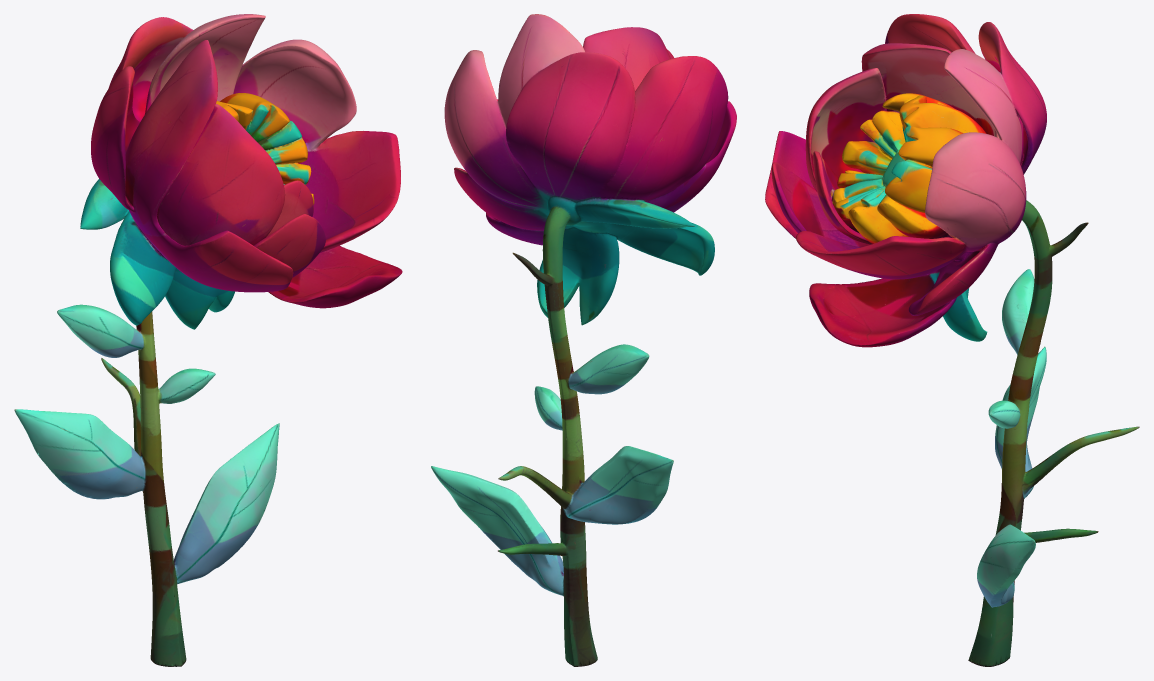
The model's file is Meshy_AI_Prismatic_Rose_0417042523_texture.fbx.
3 renders of one model, left to right at view 1: azimuth 30°, elevation 25°; view 2: azimuth 150°, elevation 25°; view 3: azimuth 270°, elevation 25°, orthographic. The views are drawn at different scales.
Visible parts, largest first — view 1: Mesh_0; view 2: Mesh_0; view 3: Mesh_0.
Boxes of the visible parts, x1,y1,x2,y2 form: Mesh_0: (14, 14, 402, 666); Mesh_0: (431, 14, 736, 666); Mesh_0: (765, 14, 1139, 666).
Size of the model in its own units: 94.03 by 190 by 102.
1 material, 1 textured.
